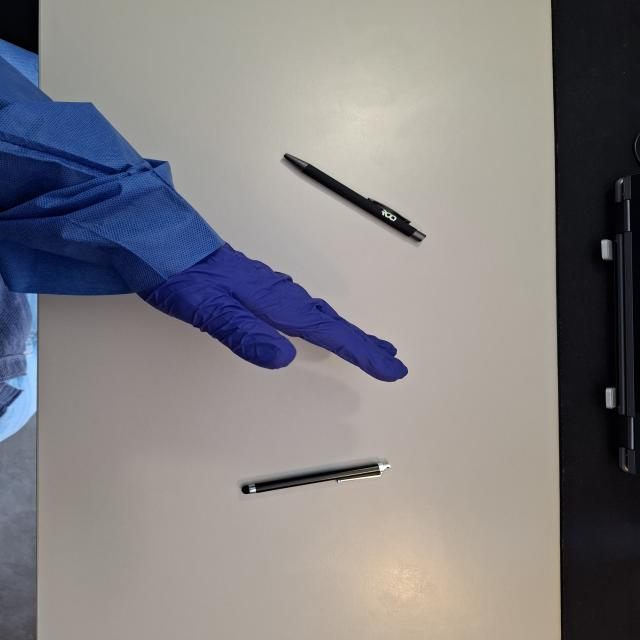glove_on: (132, 232, 409, 382)
